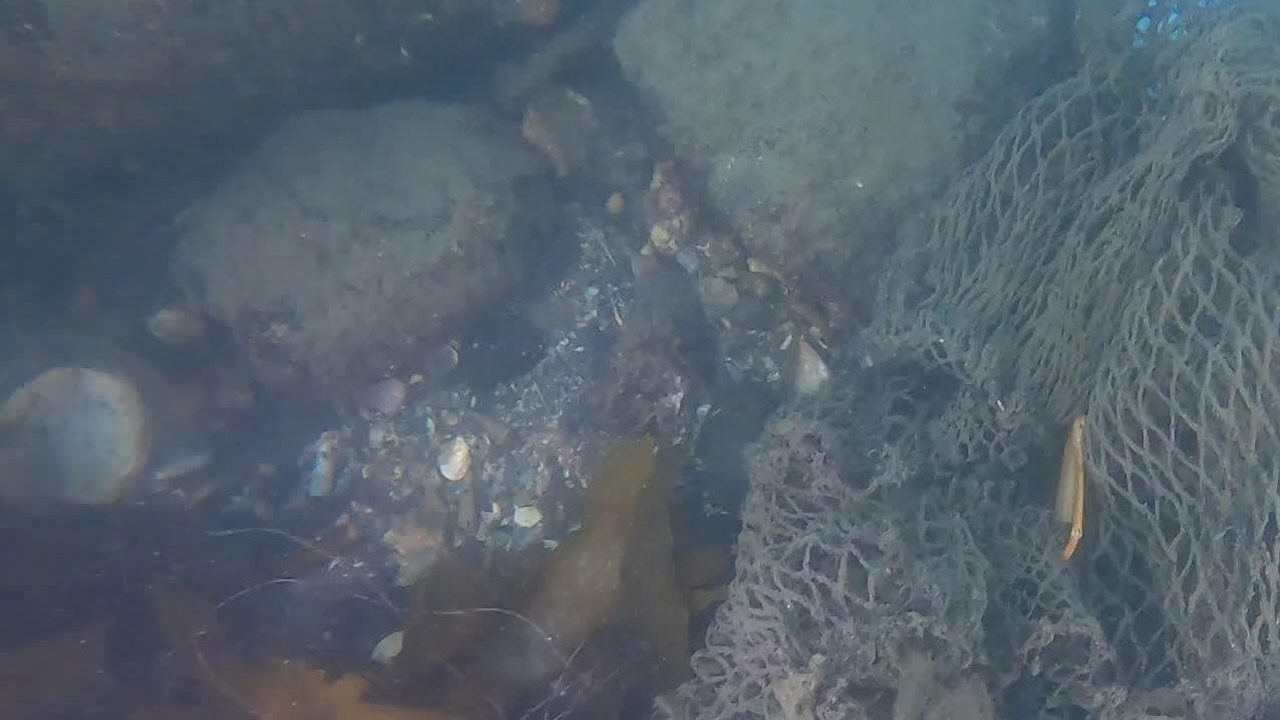fish net: (686, 8, 1280, 720)
